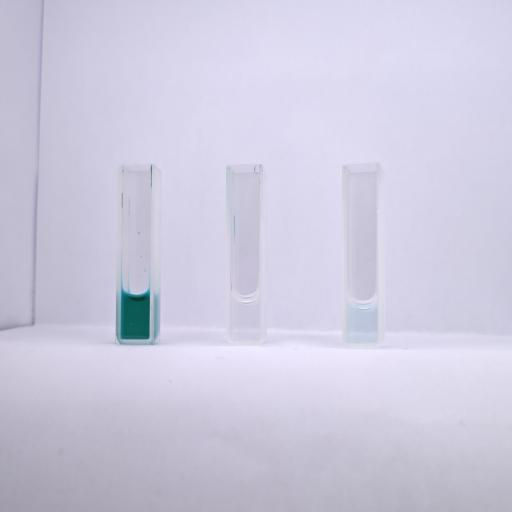cuvette: (339, 160, 385, 350), (224, 162, 267, 347), (114, 162, 156, 346)
liquid: (120, 292, 150, 340), (232, 292, 260, 340), (348, 299, 378, 342)
